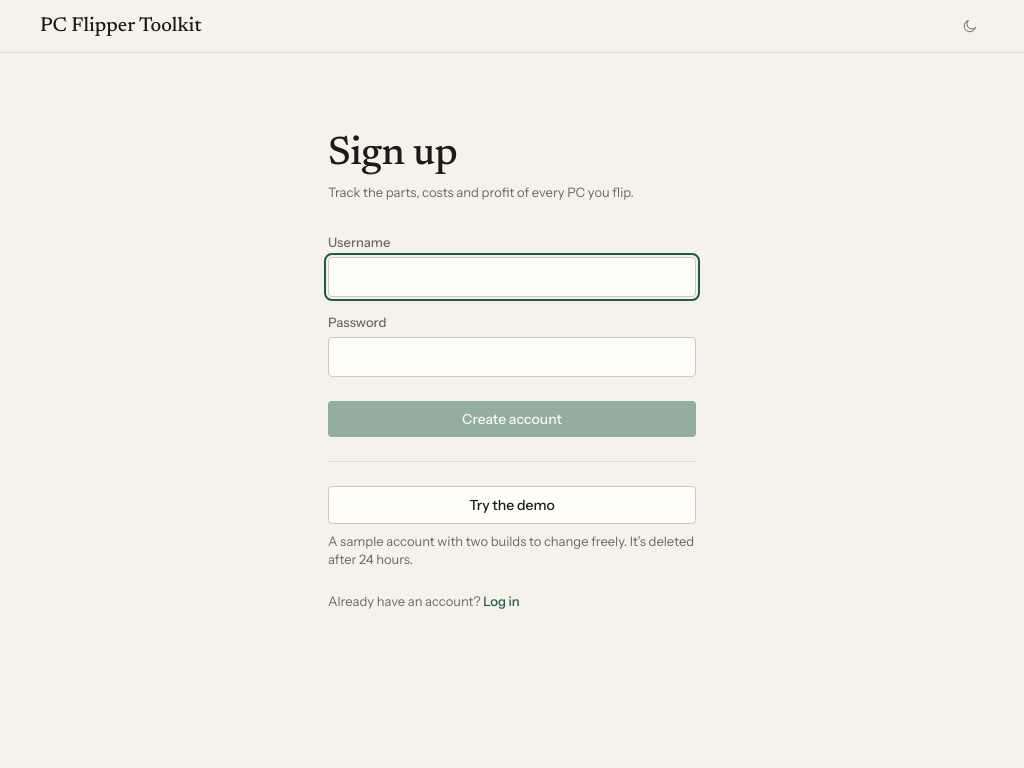
Test: sign-up errors show under their field
Type "carol" into the field labelled "Username" at (512, 277), box [328,257,696,297]
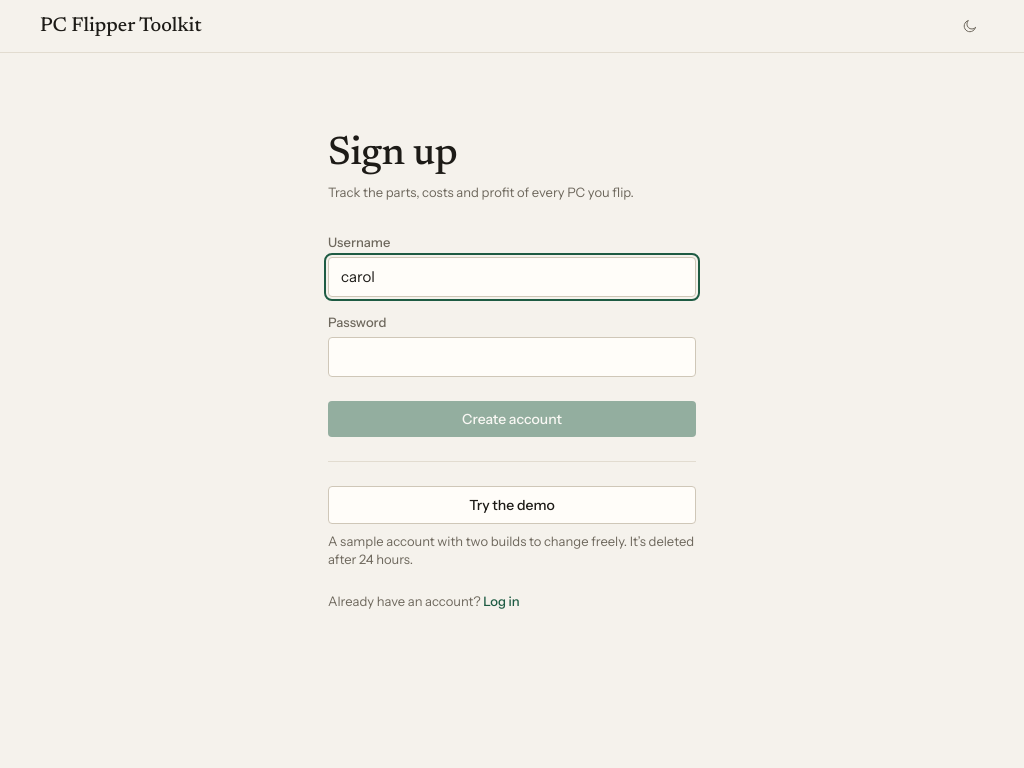
Type "123" into the password field labelled "Password" at (512, 357), box [328,337,696,377]
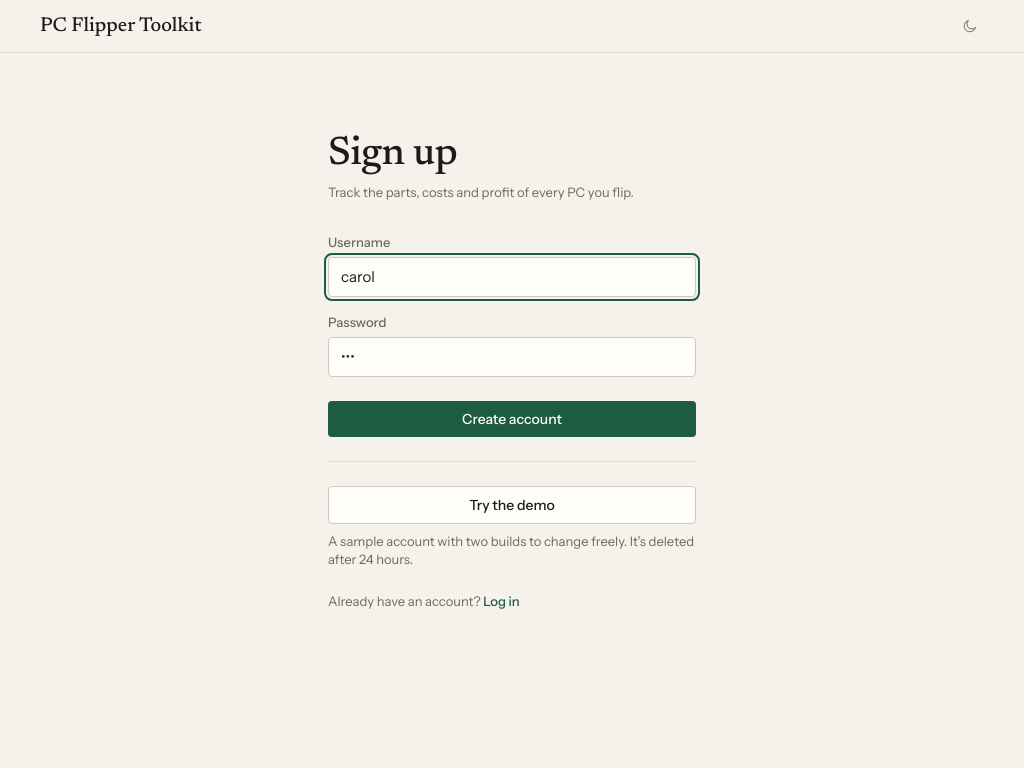
Click the button "Create account" at (512, 419), box [328,401,696,437]
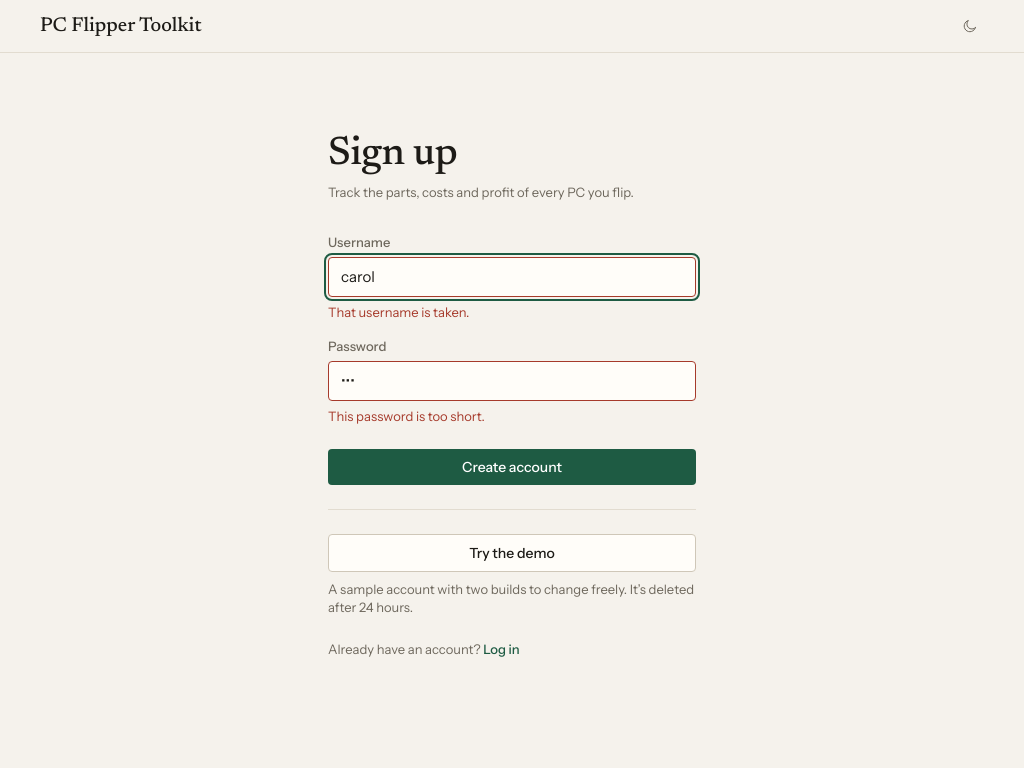
Check: the text "That username is taken." is shown, box [328,304,469,320]
Check: the text "This password is too short." is shown, box [328,408,485,424]
